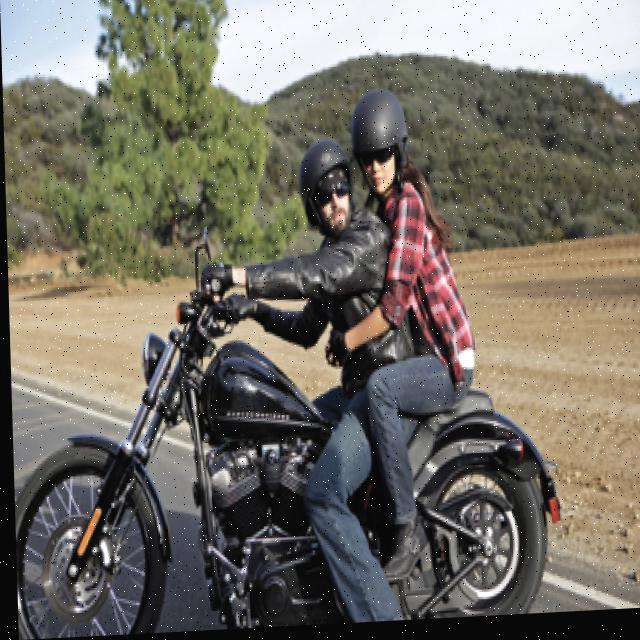Helmet: (292, 136, 358, 256), (351, 89, 406, 199)
